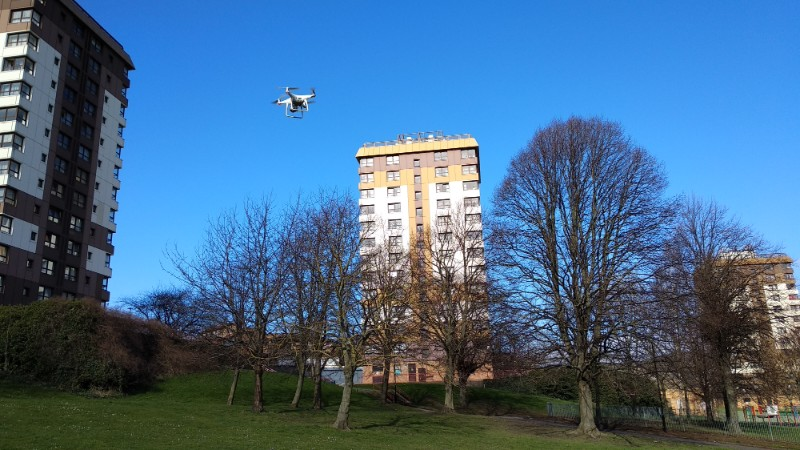drone: (269, 84, 320, 121)
